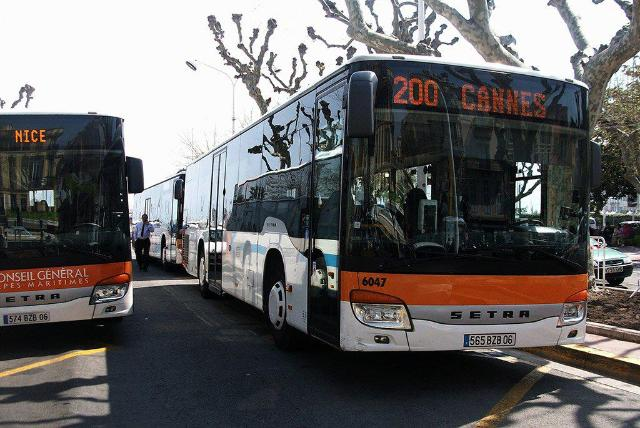bus: (179, 49, 600, 368), (0, 105, 147, 351), (132, 168, 193, 267)
